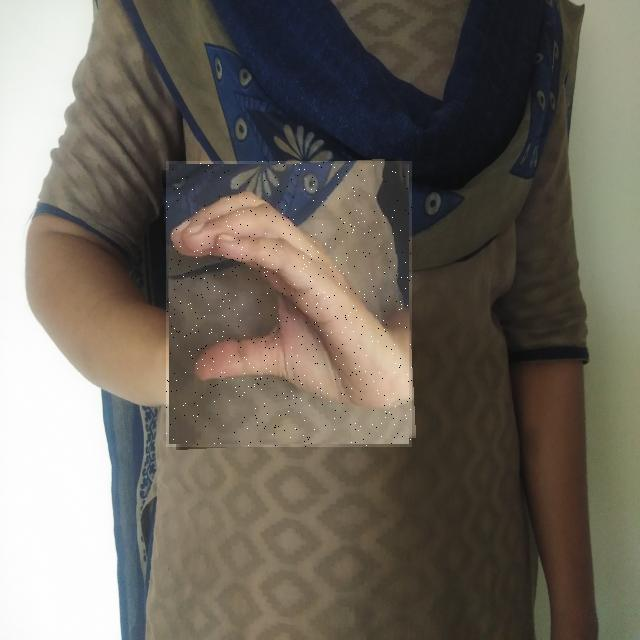C: (166, 161, 412, 447)
